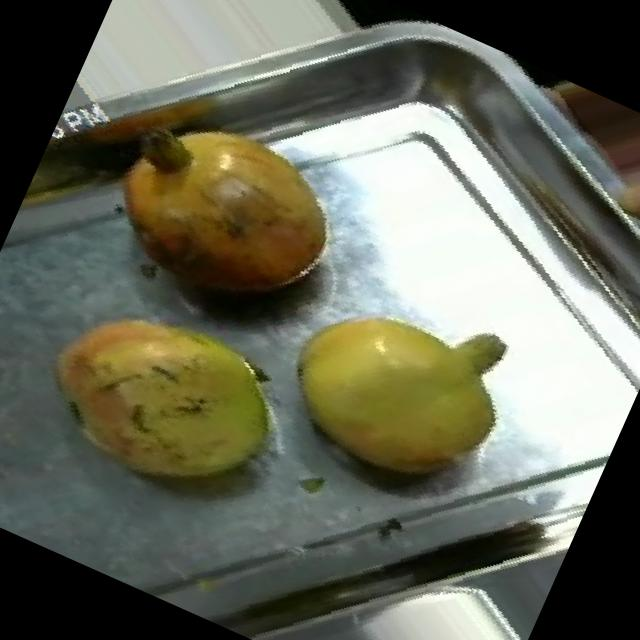fruit: (57, 49, 400, 370), (234, 232, 562, 541), (0, 244, 326, 549)
